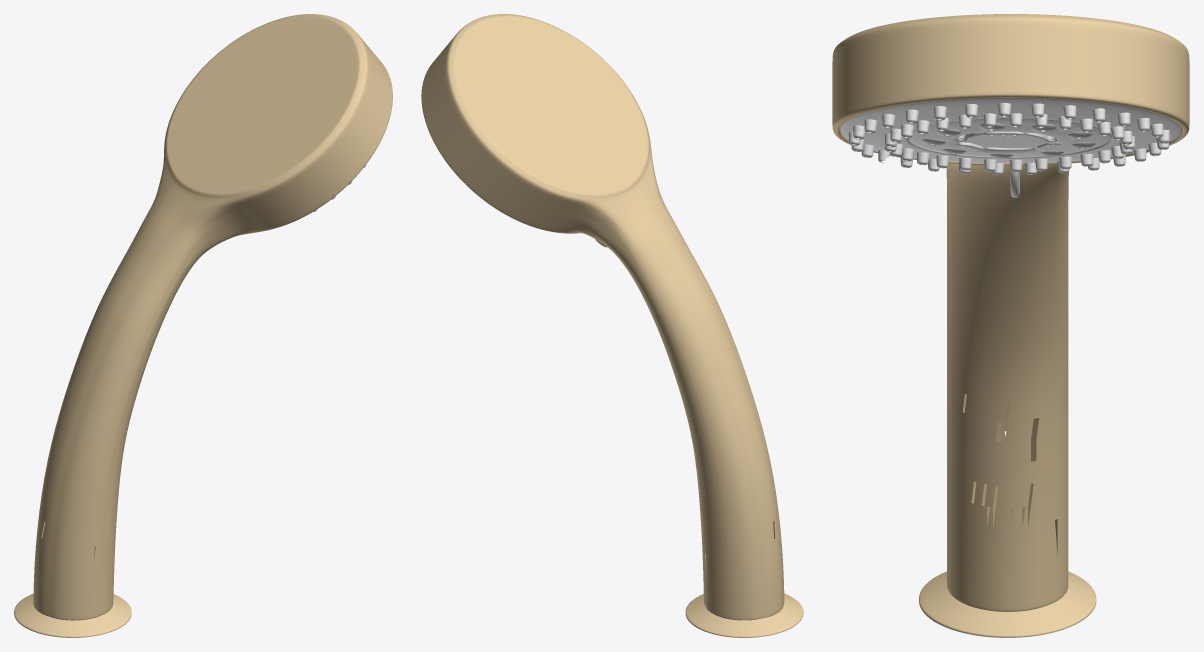
File: shower-head.glb
The picture shows the model from 3 angles, left to right: view 1: azimuth 30°, elevation 25°; view 2: azimuth 150°, elevation 25°; view 3: azimuth 270°, elevation 25°; orthographic projection. The views are drawn at different scales.
Parts seen in each view (by area): view 1: Object_4.045, Object_3.002, Object_3.003; view 2: Object_4.045, Object_3.002, Object_3.003; view 3: Object_3.002, Object_4.045, Object_8, Object_3.003, Object_4.044, Object_4.046, Object_4.051.
Boxes of the visible parts, <box> form: Object_4.045: <box>154,14,392,246</box>; Object_3.002: <box>33,73,392,620</box>; Object_3.003: <box>14,594,131,637</box>; Object_4.045: <box>421,14,662,244</box>; Object_3.002: <box>421,75,784,620</box>; Object_3.003: <box>685,593,803,637</box>; Object_3.002: <box>832,92,1189,611</box>; Object_4.045: <box>832,14,1189,168</box>; Object_8: <box>840,98,1182,163</box>; Object_3.003: <box>919,571,1096,637</box>; Object_4.044: <box>950,224,1042,341</box>; Object_4.046: <box>833,95,1188,145</box>; Object_4.051: <box>836,97,1185,165</box>.
Size of the model in its own units: 0.3933 by 0.5542 by 0.2283.
